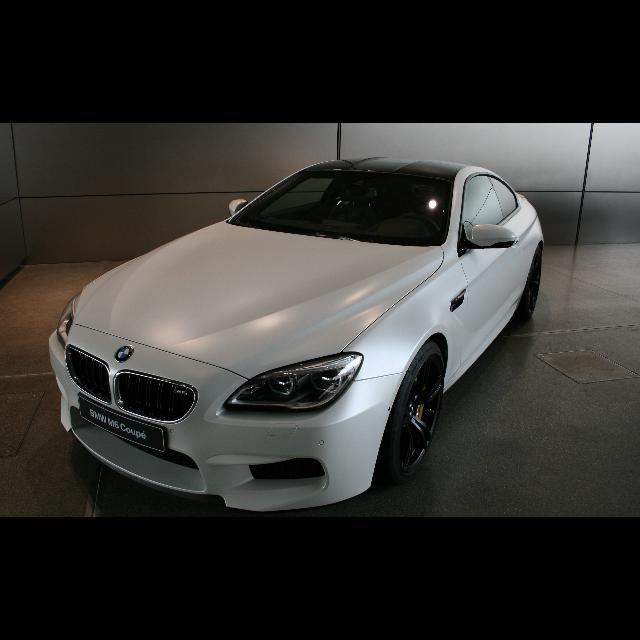cars: (41, 152, 556, 512)
